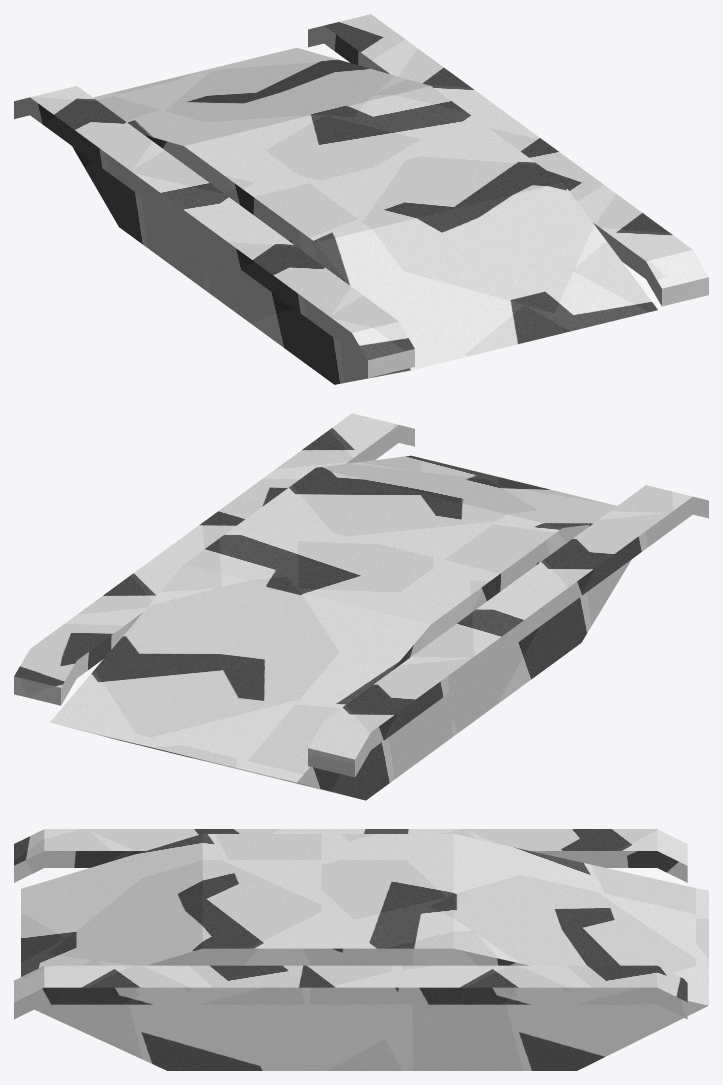
The model's file is Narushat-C_chassis.obj.
3 renders of one model, top to bottom at view 1: azimuth 30°, elevation 25°; view 2: azimuth 150°, elevation 25°; view 3: azimuth 270°, elevation 25°, orthographic. The views are drawn at different scales.
Visible parts, largest first — view 1: Cube; view 2: Cube; view 3: Cube.
Boxes of the visible parts, left/top/right/bottom form: Cube: left=14, top=14, right=708, bottom=384; Cube: left=14, top=413, right=708, bottom=800; Cube: left=14, top=829, right=708, bottom=1070.
Bounding box in the file's own units: 0.8502 × 0.3061 × 1.58.
